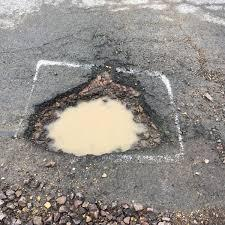pothole: (16, 46, 190, 172)
